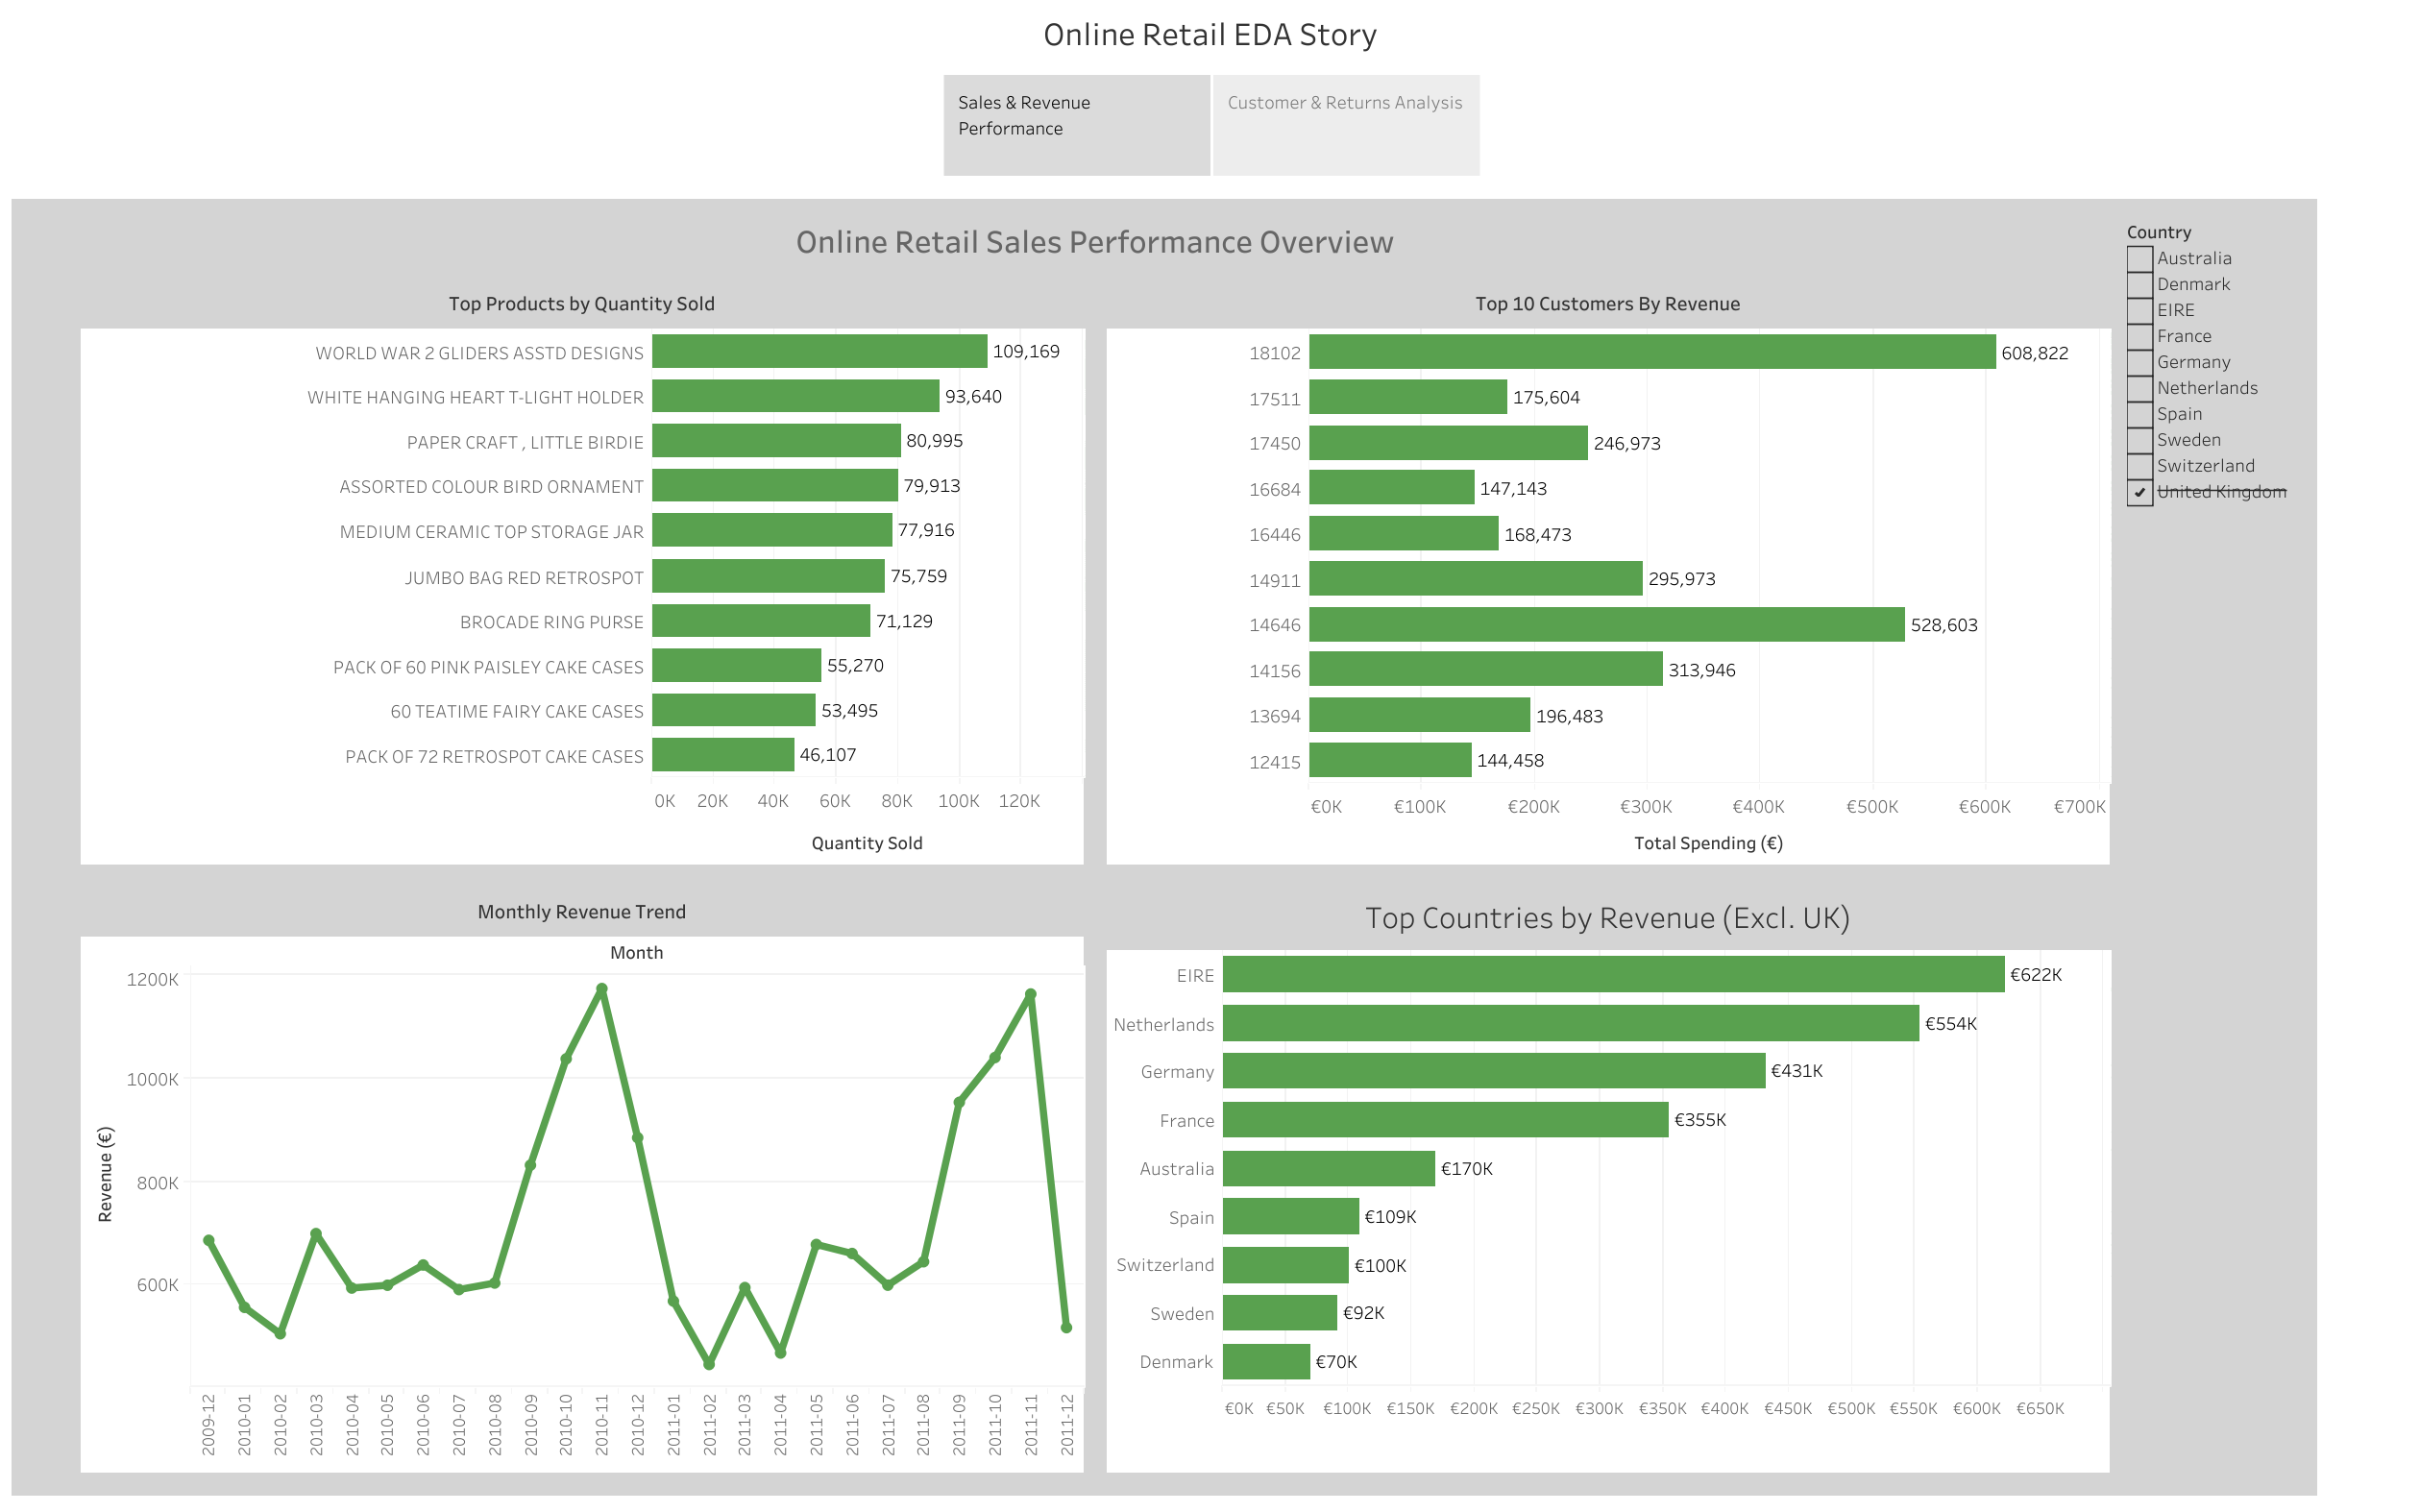

This screenshot's page, from the dashboard's own definition file:
{"tool":"tableau","page":{"name":"Sales Performance Dashboard","canvas":[1000,1000],"units":"permille","ordinal":1},"visuals":[{"type":"worksheet","title":"Top 10 Products Sold","mark":"Automatic","rows":["Description"],"cols":["Quantity Sold"],"box":[8.4,5.1,823.2,211.5]},{"type":"legend","title":"Revenue Distribution By Country","param":"[federated.1rh43sh1gmh2yq19bl62h1qa6dsd].[none:Revenue (€) (Revenue!by!Country):","box":[831.6,5.1,160,167.3]},{"type":"dashboard-object","box":[826.3,164.7,172.6,33.3]},{"type":"worksheet","title":"Top 10 Customers ID'S","mark":"Automatic","rows":["Customer ID"],"cols":["Total Spent"],"box":[8.4,216.7,823.2,211.5]},{"type":"worksheet","title":"Revenue Over Time","mark":"Automatic","rows":["Month"],"cols":["Revenue (€)"],"box":[8.4,428.2,823.2,403.9]},{"type":"worksheet","title":"Revenue Distribution By Country","mark":"Multipolygon","box":[8.4,832.1,823.2,162.8]}]}

Visuals, with their boxes on the dashboard's canvas, which has no fixed pixel size, in thousandths of its width and height (x1, y1, x2, y2). These are canvas units, not pixel positions in the 2420x1512 screenshot, which may show the page scaled, cropped or inside an application window:
"Top 10 Products Sold" worksheet: crop(8, 5, 832, 217)
"Revenue Distribution By Country" legend: crop(832, 5, 992, 172)
dashboard-object: crop(826, 165, 999, 198)
"Top 10 Customers ID'S" worksheet: crop(8, 217, 832, 428)
"Revenue Over Time" worksheet: crop(8, 428, 832, 832)
"Revenue Distribution By Country" worksheet (Multipolygon marks): crop(8, 832, 832, 995)
